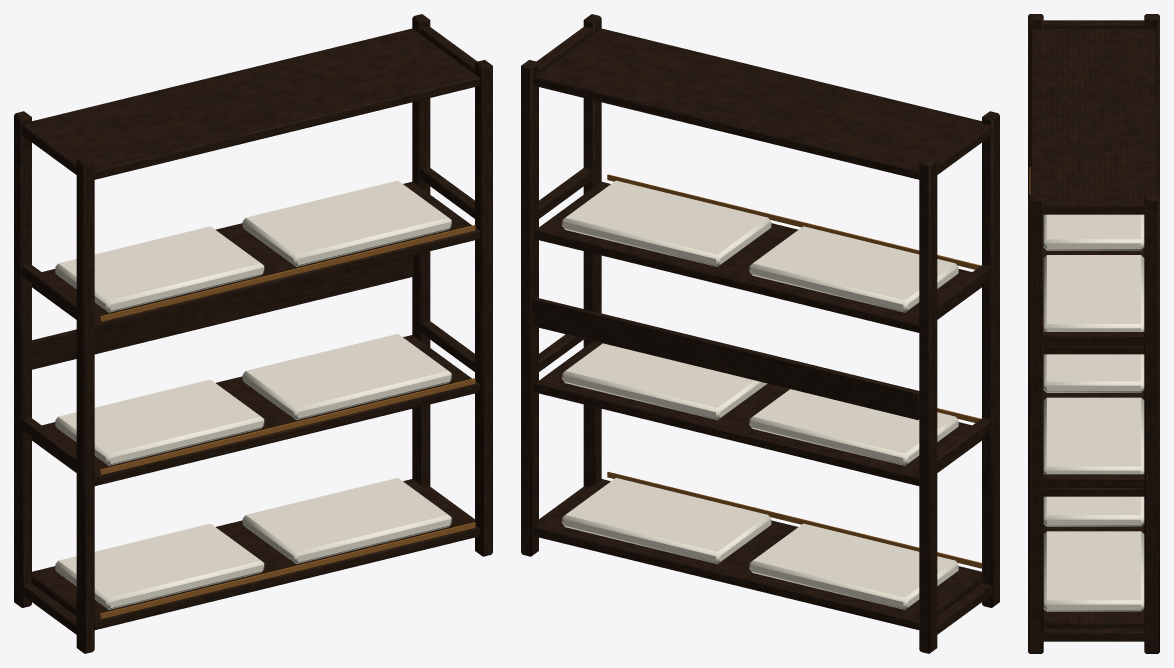
File: maker-result-shelf.lod1.glb
3 renders of one model, left to right at view 1: azimuth 30°, elevation 25°; view 2: azimuth 150°, elevation 25°; view 3: azimuth 270°, elevation 25°, orthographic. The views are drawn at different scales.
Parts seen in each view (by area): view 1: maker_result_shelf_Timber • oiled walnut, maker_result_shelf_Ceramic • warm ivory, maker_result_shelf_Trim • places palette; view 2: maker_result_shelf_Timber • oiled walnut, maker_result_shelf_Ceramic • warm ivory, maker_result_shelf_Trim • places palette; view 3: maker_result_shelf_Timber • oiled walnut, maker_result_shelf_Ceramic • warm ivory.
Part boxes in pixels (x1,y1,x2,y2): maker_result_shelf_Timber • oiled walnut: (14, 14, 492, 653); maker_result_shelf_Ceramic • warm ivory: (55, 180, 451, 609); maker_result_shelf_Trim • places palette: (100, 225, 475, 618); maker_result_shelf_Timber • oiled walnut: (521, 14, 999, 653); maker_result_shelf_Ceramic • warm ivory: (562, 180, 958, 609); maker_result_shelf_Trim • places palette: (607, 174, 981, 568); maker_result_shelf_Timber • oiled walnut: (1028, 14, 1159, 653); maker_result_shelf_Ceramic • warm ivory: (1043, 214, 1144, 611).
Size of the model in its own units: 1.4 by 1.6 by 0.42.
3 materials, 2 textured.
